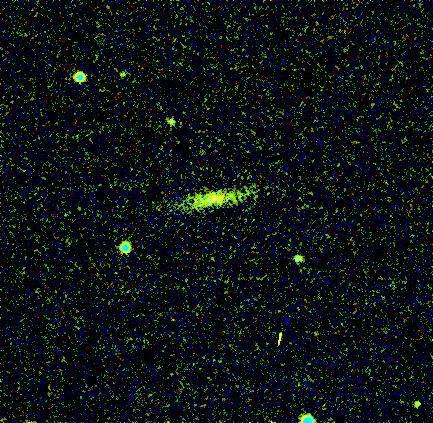star: (154, 108, 184, 138)
